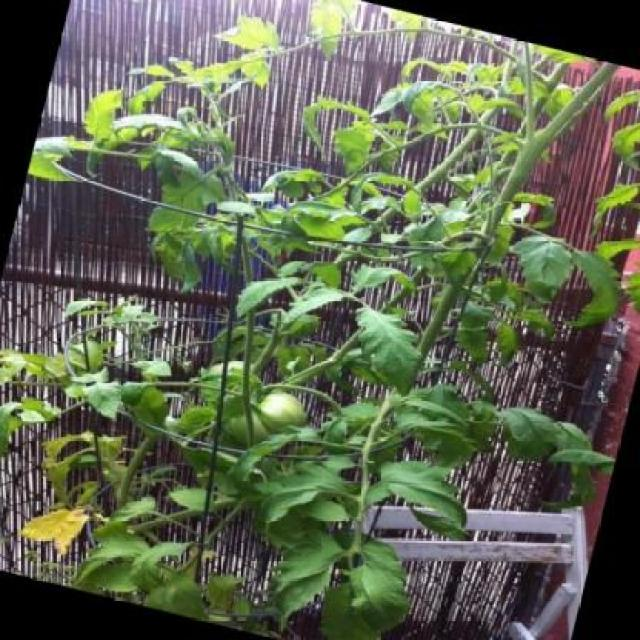Healthy Leaf: (332, 295, 437, 391), (492, 228, 580, 323), (134, 158, 220, 251), (374, 459, 475, 523), (231, 258, 311, 334), (338, 558, 414, 637), (268, 532, 340, 596)
